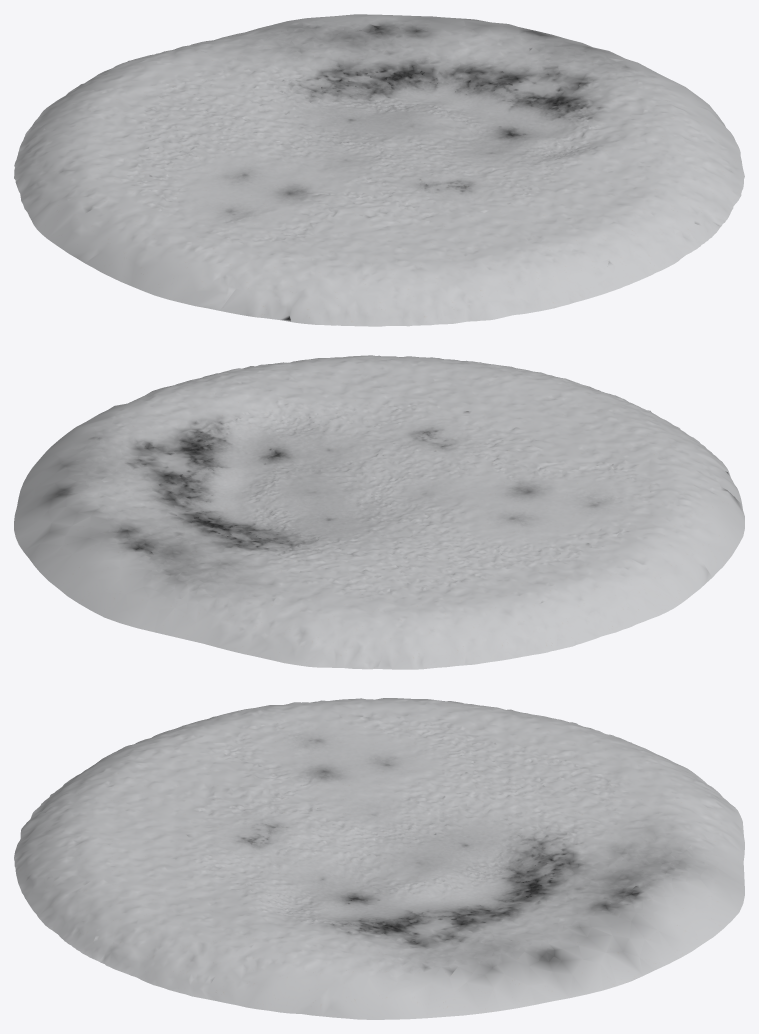
File: floorWinter.glb
3 views of the same model, one above another, from view 1: azimuth 30°, elevation 25°; view 2: azimuth 150°, elevation 25°; view 3: azimuth 270°, elevation 25° (orthographic).
Visible parts, largest first — view 1: Snow; view 2: Snow; view 3: Snow.
Boxes of the visible parts, x1,y1,x2,y2 form: Snow: (14,14,744,326); Snow: (14,355,744,669); Snow: (14,698,744,1019).
Bounding box in the file's own units: 90.13 × 4.5 × 88.25.
1 material, 1 textured.
